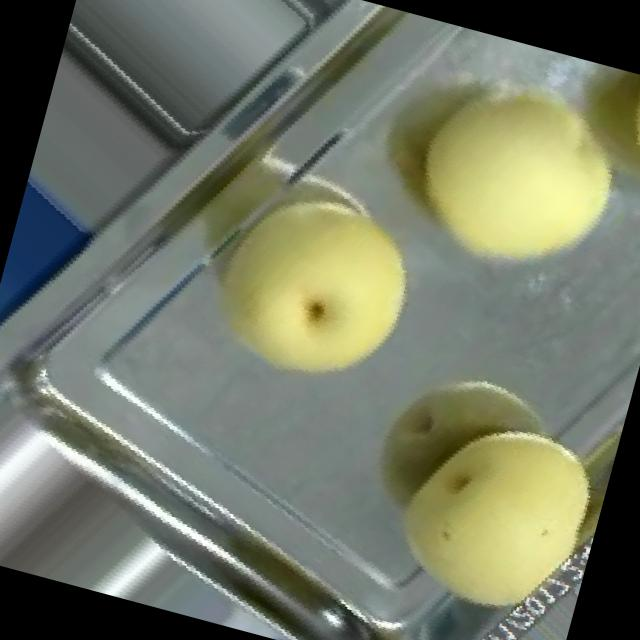Fruit: (158, 134, 460, 430), (368, 19, 640, 326), (362, 380, 621, 640)
